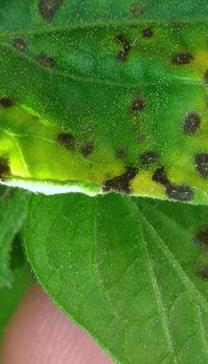Tomato Septoria leaf spot: (0, 0, 208, 189)
